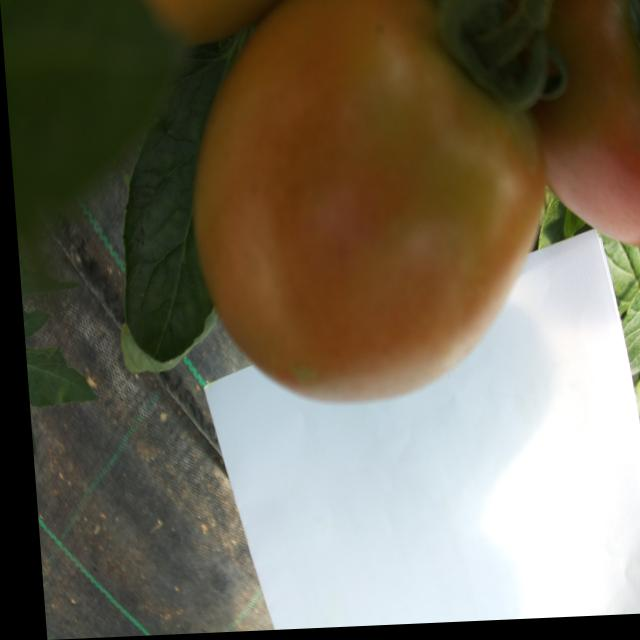sari: (158, 28, 596, 361)
